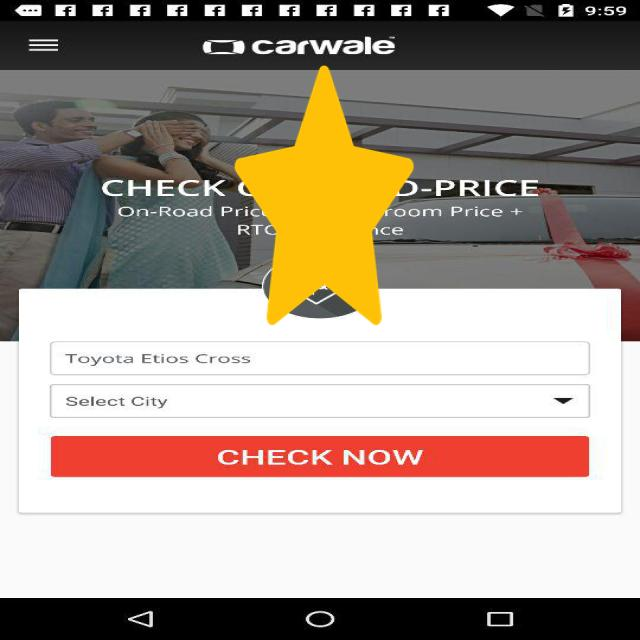forced continuity: (234, 66, 413, 326)
